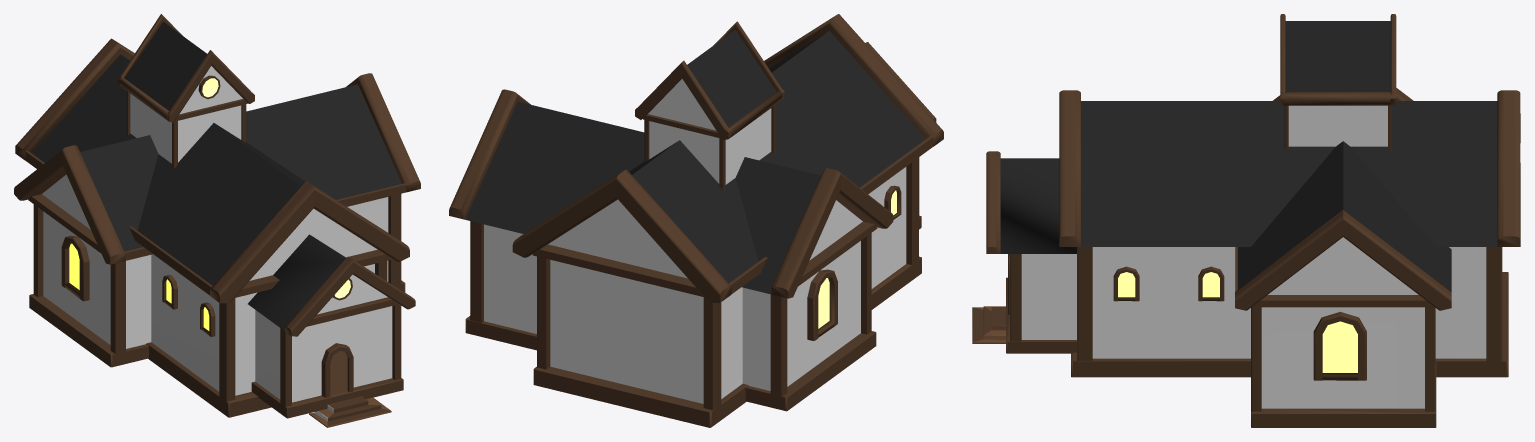
File: Correctedhouse0.fbx
The picture shows the model from 3 angles, left to right: view 1: azimuth 30°, elevation 25°; view 2: azimuth 150°, elevation 25°; view 3: azimuth 270°, elevation 25°; orthographic projection. The views are drawn at different scales.
Visible parts, largest first — view 1: haus1.010; view 2: haus1.010; view 3: haus1.010.
Boxes of the visible parts, x1,y1,x2,y2 form: haus1.010: (14,14,420,427); haus1.010: (449,14,943,427); haus1.010: (972,14,1520,427).
Size of the model in its own units: 523 by 451 by 709.
